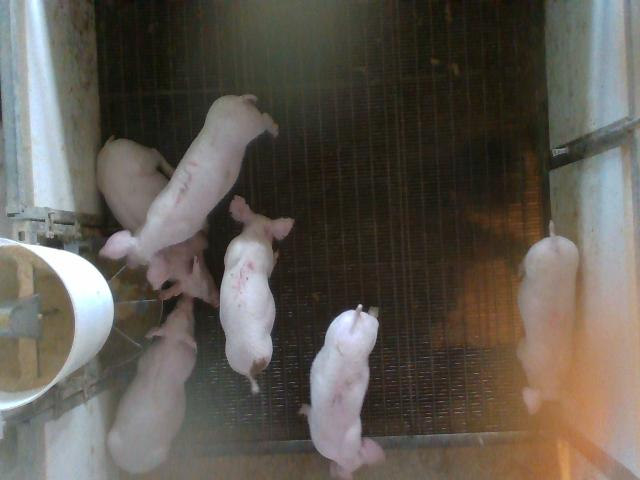pig-3: (100, 95, 278, 288)
pig-4: (518, 235, 579, 412)
pig-5: (220, 196, 294, 393)
